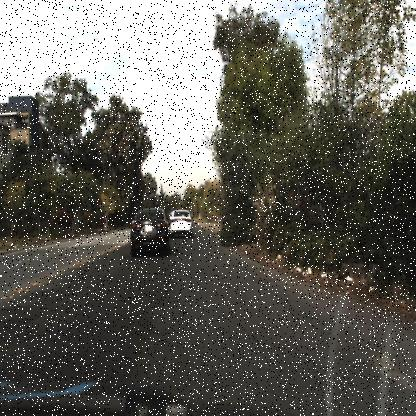car: (126, 198, 176, 271), (165, 200, 196, 244), (164, 217, 176, 241)
